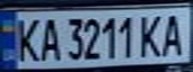1: (115, 14, 139, 58), (100, 13, 121, 60)
2: (81, 15, 103, 61)
3: (63, 15, 84, 61)
A: (157, 10, 190, 56), (36, 15, 60, 62)
K: (12, 15, 42, 63), (136, 11, 166, 57)
